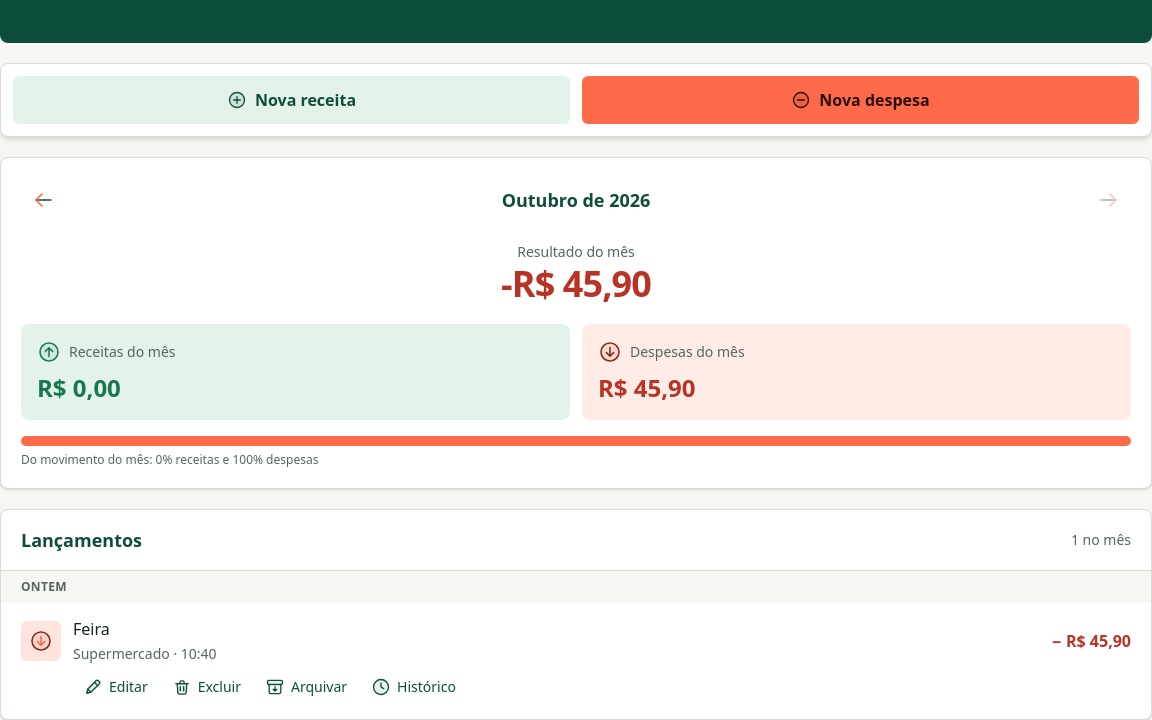
Home: arquivar › arquivar não pede confirmação (é reversível) e o foco vai para o título da lista
This screenshot has width=1152, height=720.
(page scrolled)
Click the button with aria-label "Arquivar Feira": (306, 687) [255,669,357,705]
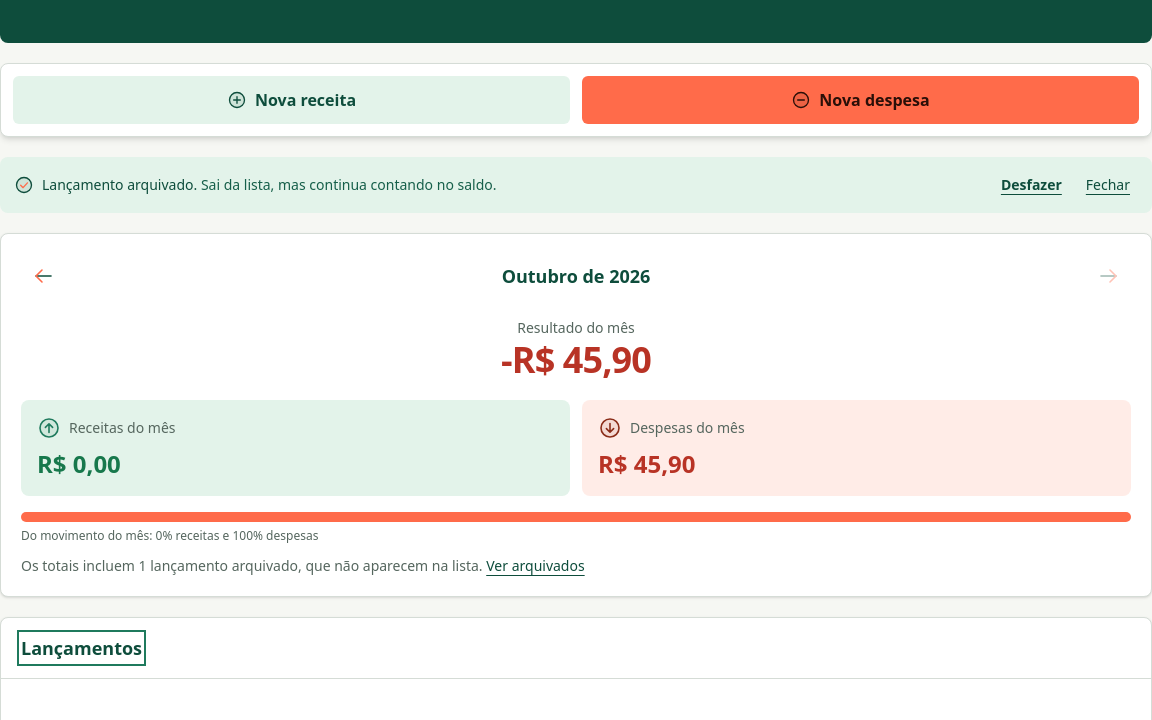
Check: the button "Excluir" is gone
Check: the text "Lançamento arquivado." is shown, box [42,175,197,194]
